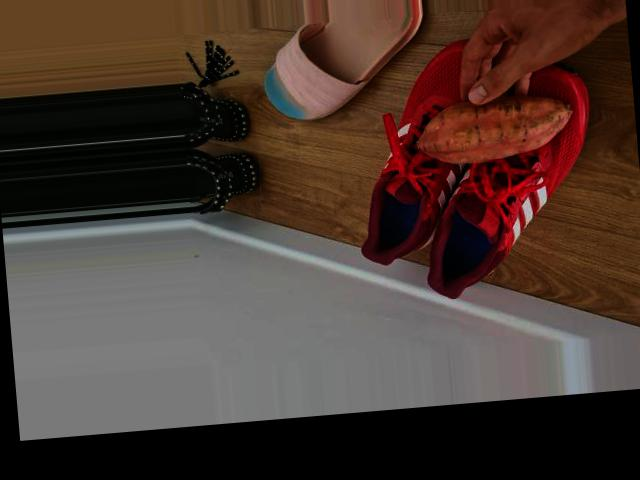sweet_potato: (413, 91, 575, 169)
